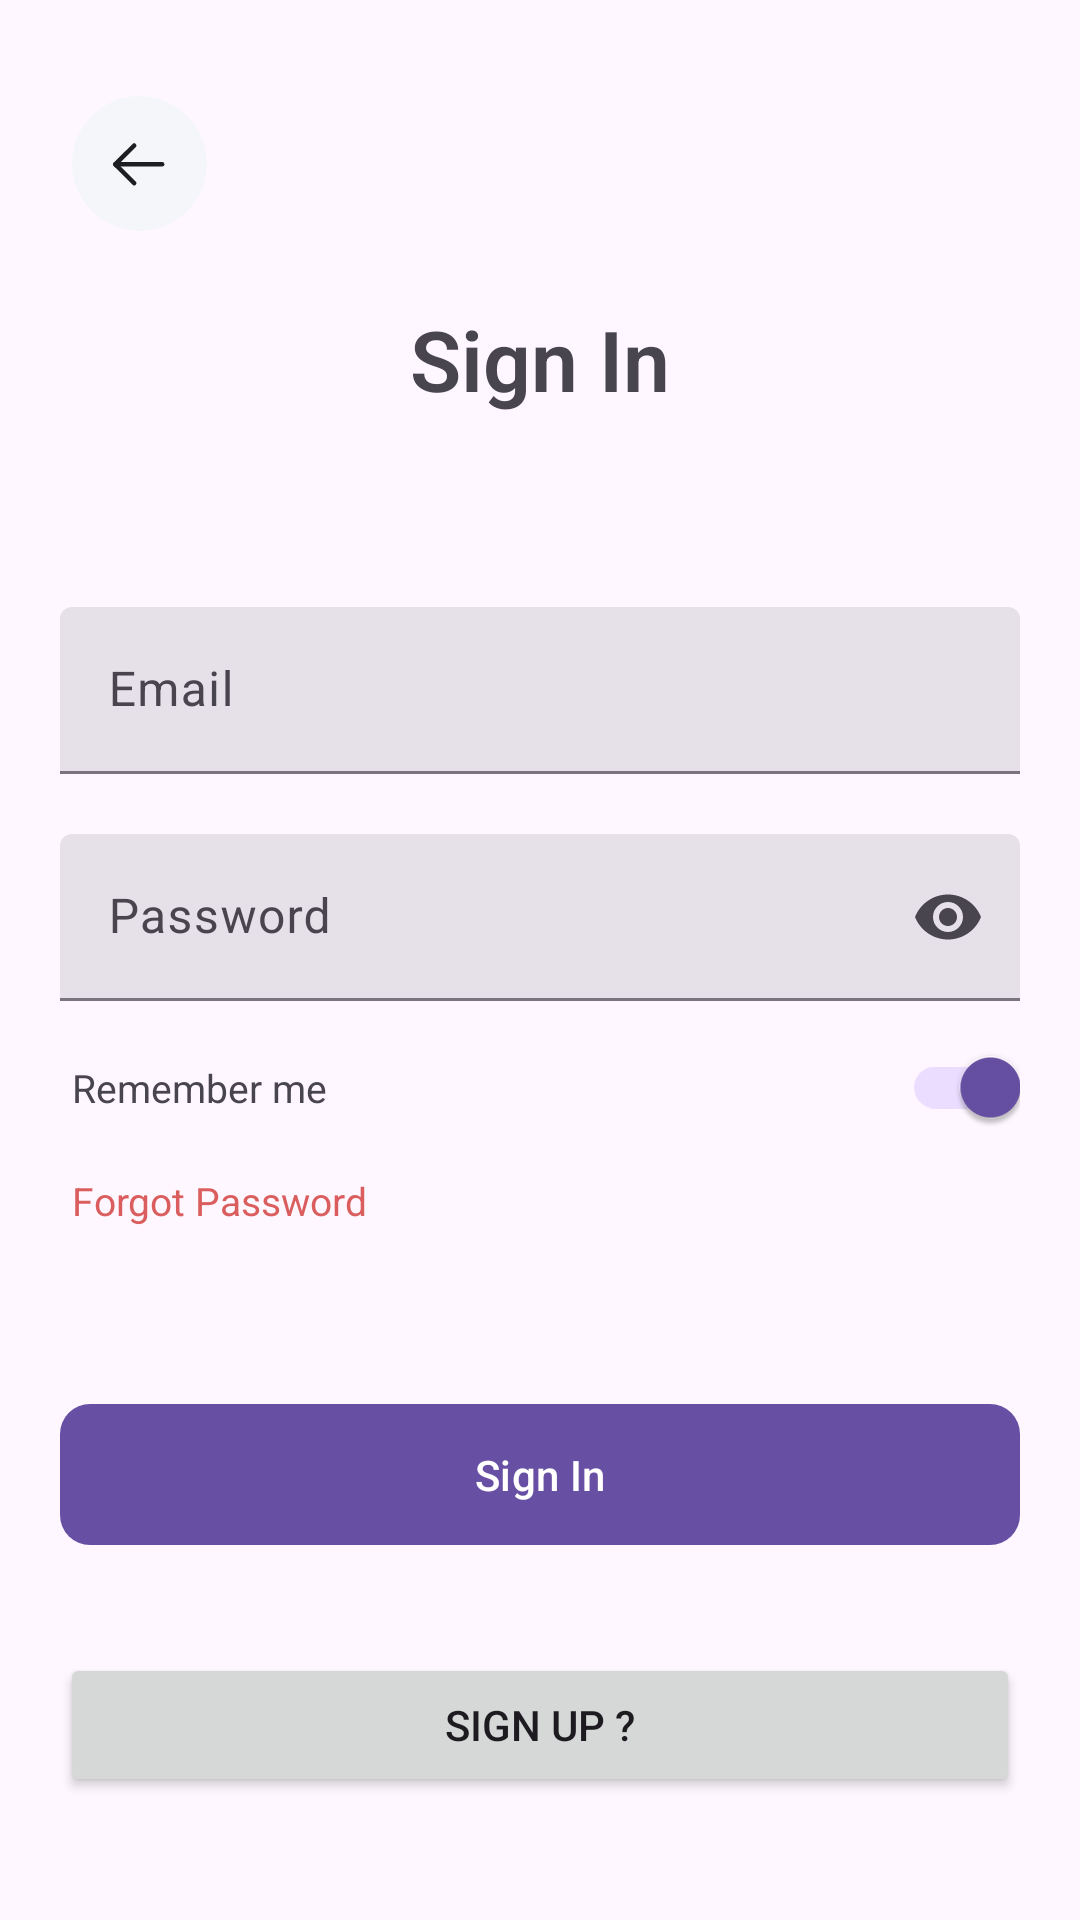

Named icons in this screenshot (1080px x 1920px) and their centers, point (x, y):
back: point (139, 163)
